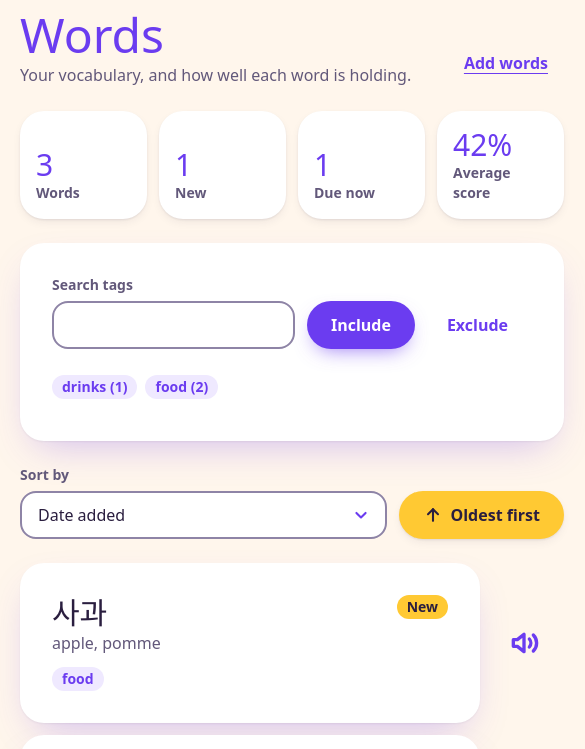
Clear tags drops every chosen tag at once
Click the button "drinks (1)" at (95, 387), box 52,365 -> 138,409
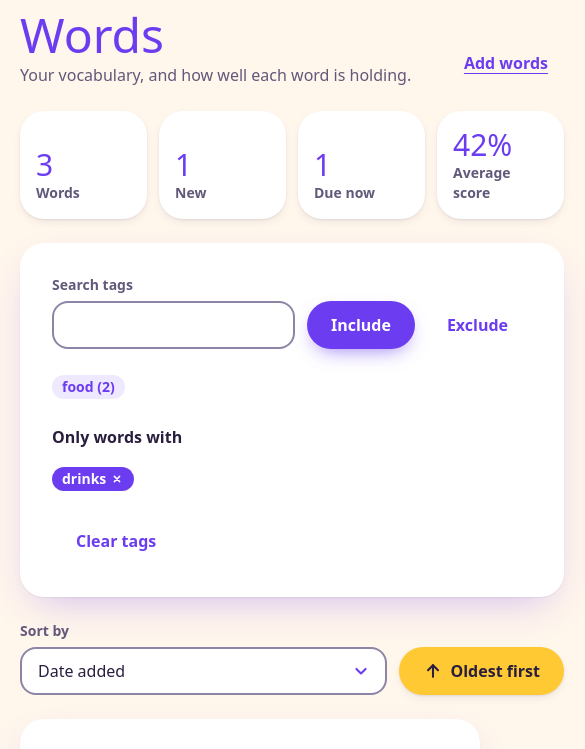
Result: the button "Clear tags" is shown at 52,517 -> 180,565
Click the button "Exclude" at (477, 325), box 423,301 -> 532,349
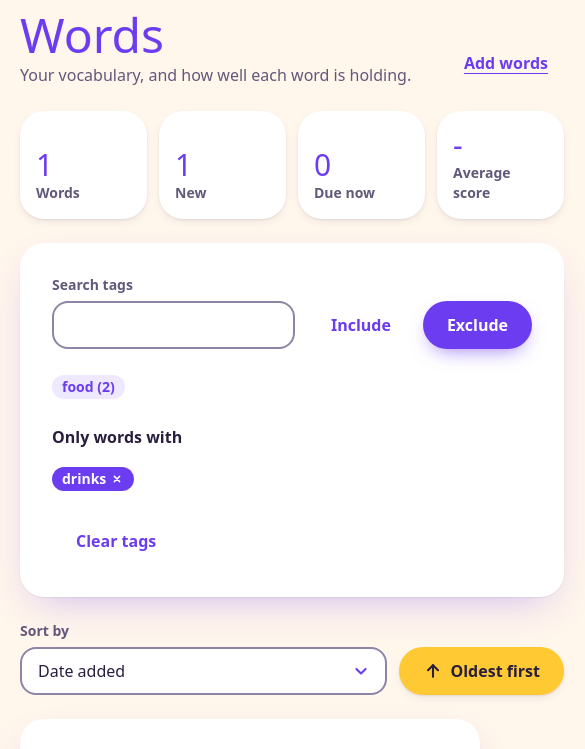
Click the button "food (2)" at (88, 387), box 52,365 -> 125,409
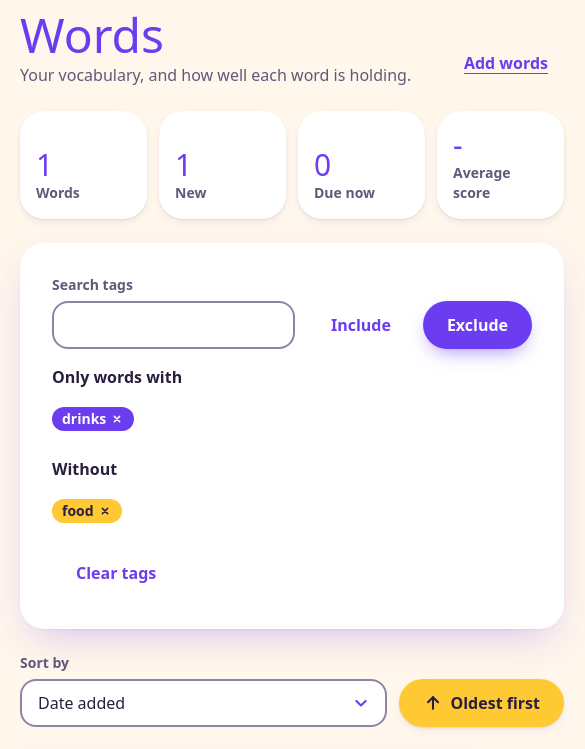
Click the button "Clear tags" at (116, 573), box 52,549 -> 180,597
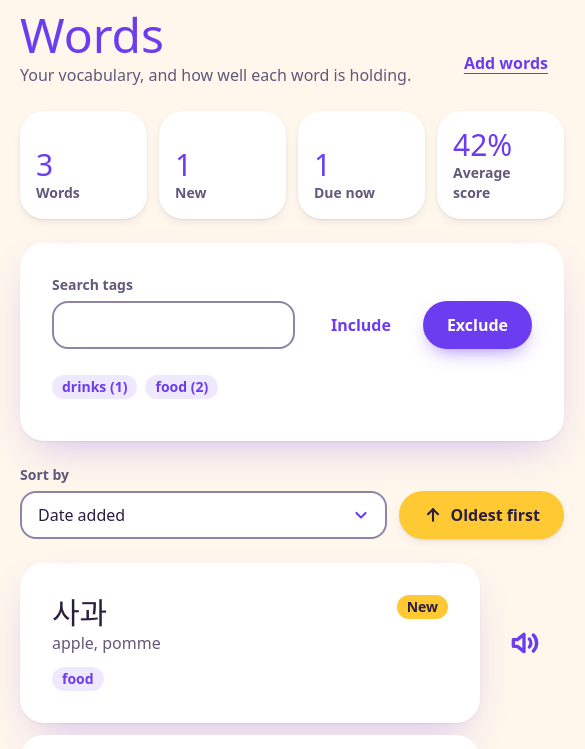
Result: the button "Clear tags" is gone
